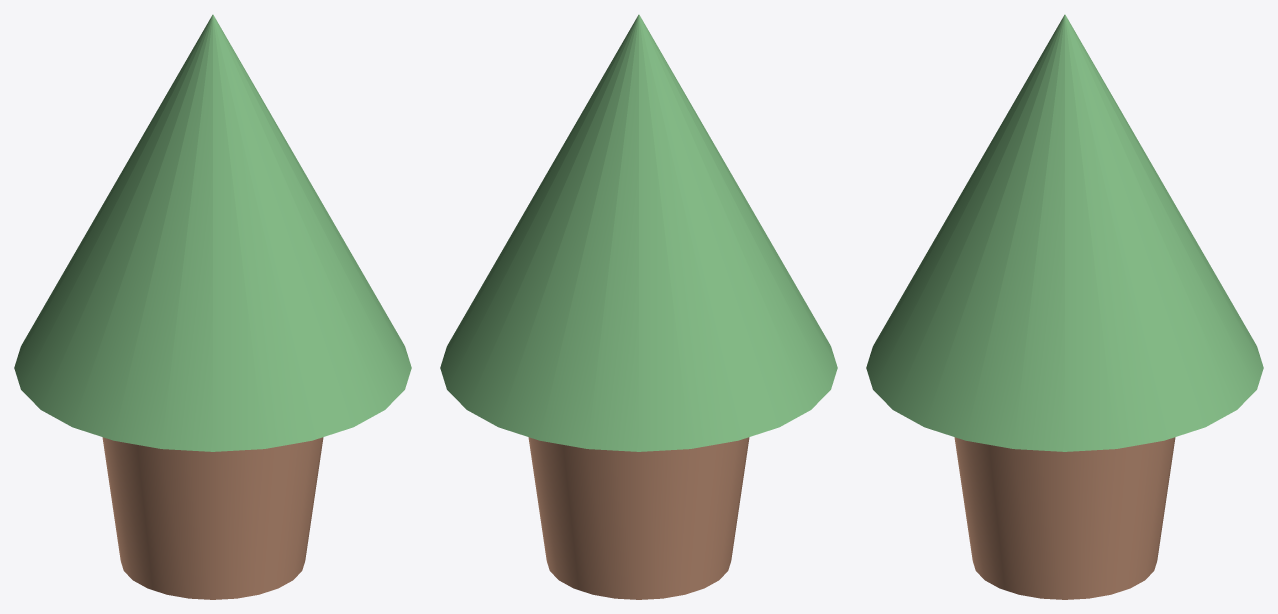
The model's file is test-plant.glb.
The picture shows the model from 3 angles, left to right: view 1: azimuth 30°, elevation 25°; view 2: azimuth 150°, elevation 25°; view 3: azimuth 270°, elevation 25°; orthographic projection.
Visible parts, largest first — view 1: Leaves, Pot; view 2: Leaves, Pot; view 3: Leaves, Pot.
Boxes of the visible parts, box(x1,y1,x2,y2) form: Leaves: box(14, 14, 411, 451); Pot: box(102, 437, 323, 599); Leaves: box(440, 14, 837, 451); Pot: box(528, 437, 749, 599); Leaves: box(866, 14, 1263, 451); Pot: box(954, 437, 1175, 599).
Bounding box in the file's own units: 0.56 × 0.85 × 0.56.
